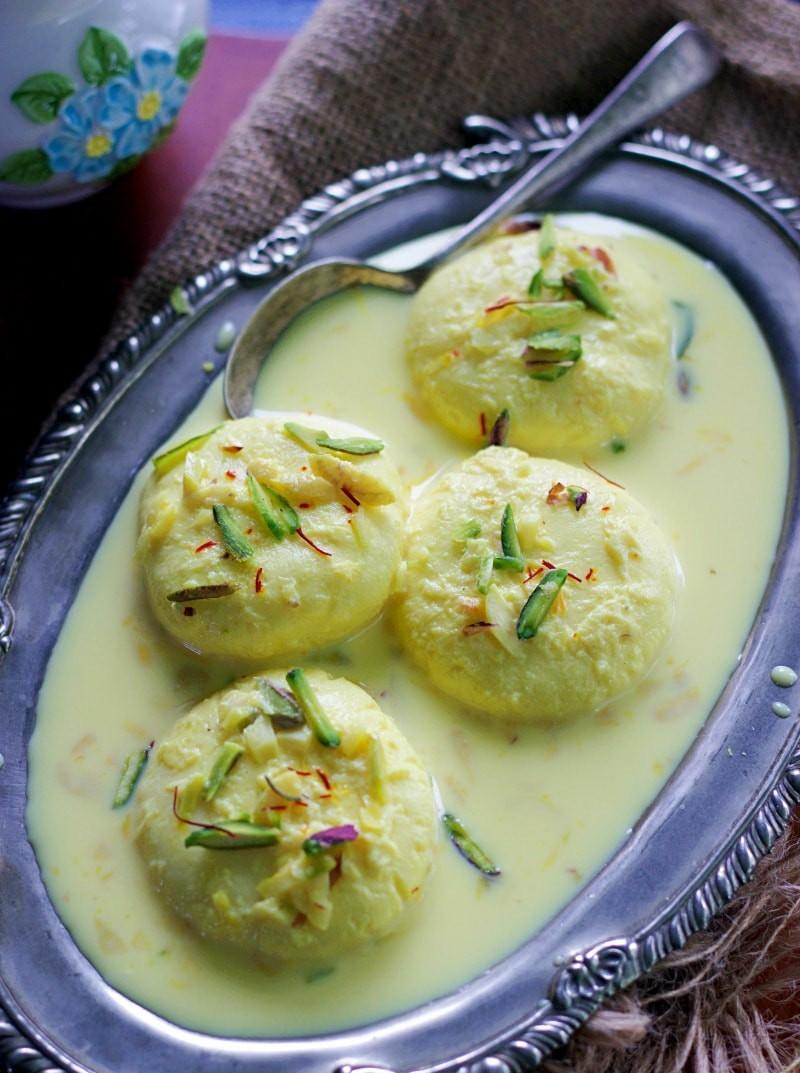RasMalai: (31, 206, 800, 1044)
